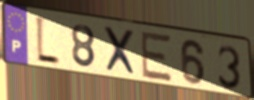3: (216, 44, 242, 92)
6: (180, 39, 207, 86)
8: (70, 23, 98, 69)
E: (140, 30, 174, 84)
L: (34, 14, 62, 68)
X: (101, 25, 140, 79)
